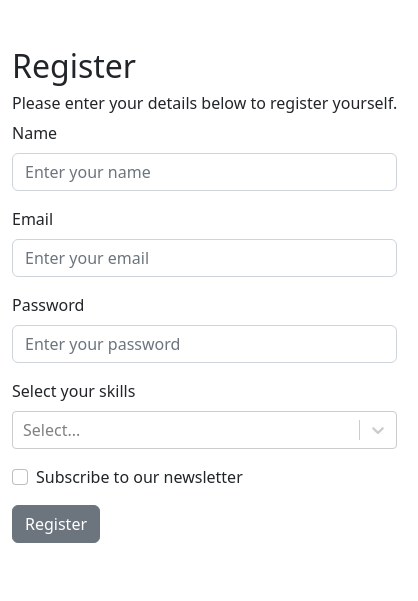
it: Register component › should show success message when the registration is correct requirement and successful.
This screenshot has width=418, height=601.
Type "John Doe" into the field with placeholder "Enter your name" at (205, 172), box [12,153,397,191]
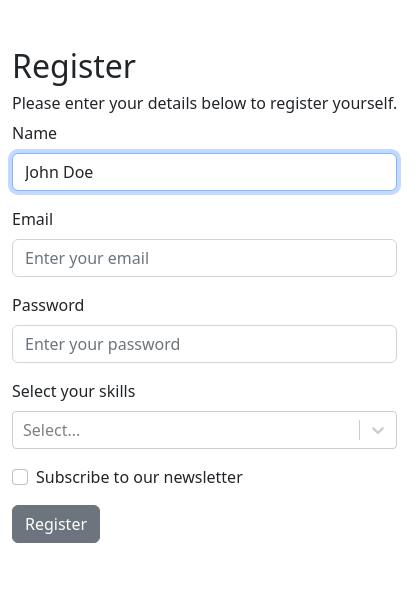
Type "johndoe@example.com" into the field with placeholder "Enter your email" at (205, 258), box [12,239,397,277]
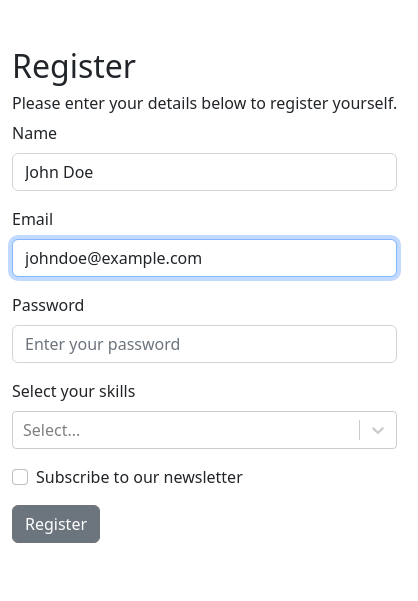
Type "password123" into the password field with placeholder "Enter your password" at (205, 344), box [12,325,397,363]
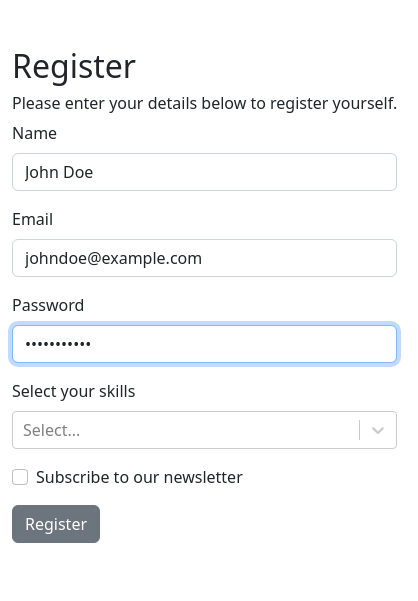
Click the checkbox labelled "Subscribe to our newsletter" at (20, 477), box [12,469,28,485]
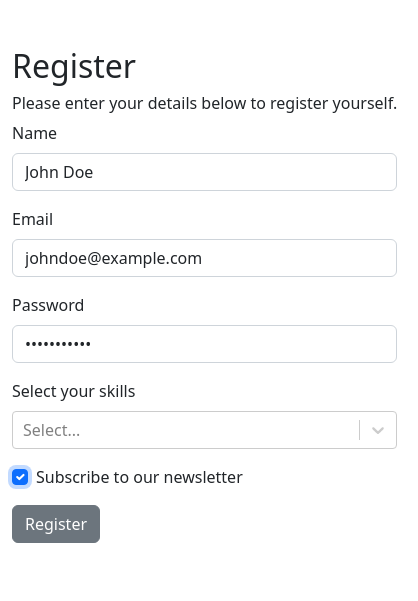
Click the button "Register" at (56, 524), box [12,505,100,543]
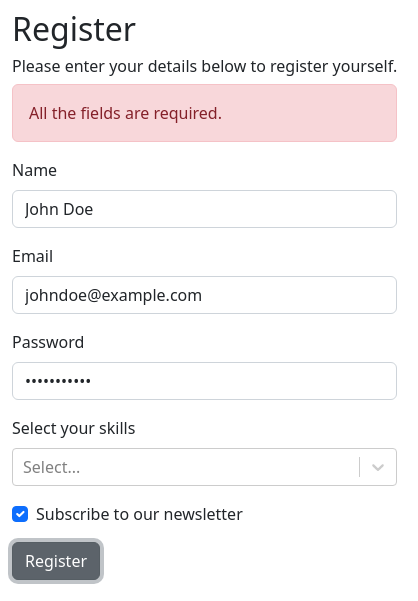
Expected: the message "All the fields are required." is shown, [12,84,397,142]
